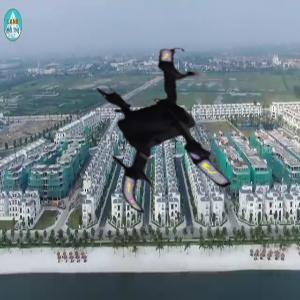drone: (70, 34, 255, 219)
